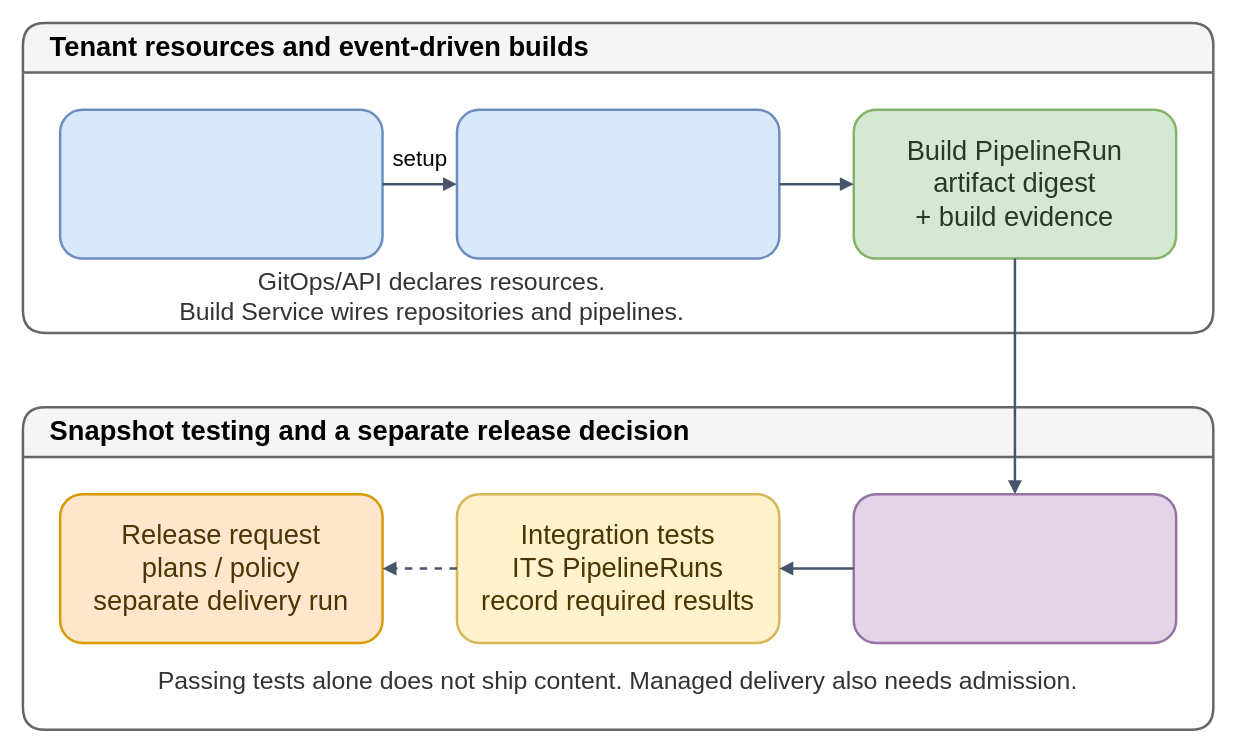
Some shapes in this 1235 by 751 pixel diagram are drawn without their labels. Each missing label, with the centre of its shape:
"Application + Components desired API resources" belongs at point (220, 183).
"Git events + PaC authorize + select .tekton definitions" belongs at point (617, 183).
"Snapshot fixed component digests + source references" belongs at point (1014, 568).
